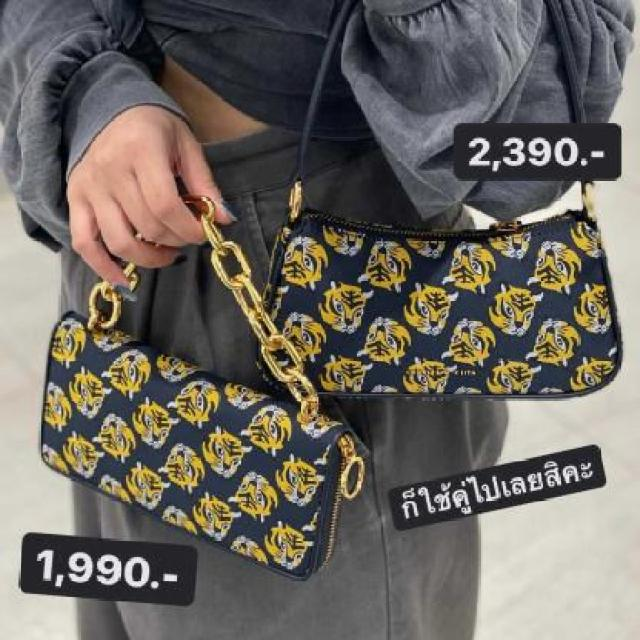Bag: (0, 182, 374, 596), (264, 149, 639, 429)
